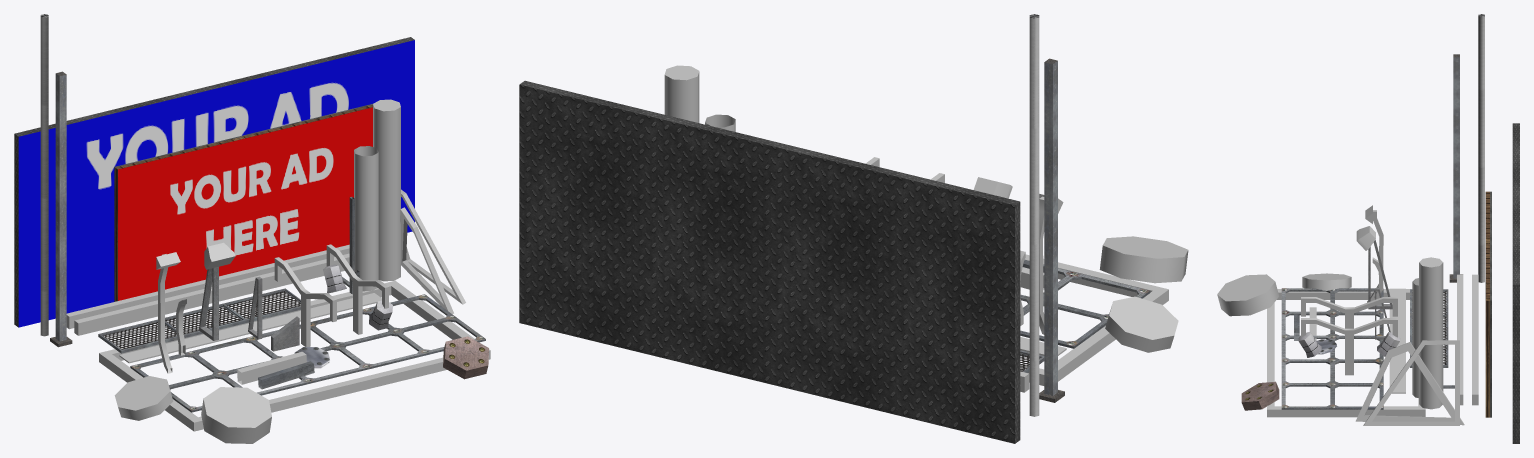
Rendered from platforms.fbx.
3 renders of one model, left to right at view 1: azimuth 30°, elevation 25°; view 2: azimuth 150°, elevation 25°; view 3: azimuth 270°, elevation 25°, orthographic. The views are drawn at different scales.
Parts seen in each view (by area): view 1: polySurface111, pCube526, pCube508, polySurface35, pCylinder36, group1_pCube33, polySurface33, pCylinder97, pCube341, pCylinder35, pCylinder118, polySurface34 (+17 smaller); view 2: polySurface111, pCube341, pCylinder118, pCylinder97, pCylinder137, pCube508, pCylinder36, polySurface35, pCube251; view 3: polySurface35, pCylinder36, pCube508, polySurface111, pCylinder97, pCylinder118, pCube385, pCube341, pCube526, pCube389, pCube250, pCube401 (+12 smaller).
Boxes of the visible parts, x1,y1,x2,y2 form: polySurface111: [14, 37, 414, 327]; pCube526: [114, 104, 372, 301]; pCube508: [99, 280, 490, 431]; polySurface35: [130, 294, 485, 412]; pCylinder36: [373, 99, 400, 281]; group1_pCube33: [98, 288, 300, 353]; polySurface33: [74, 253, 349, 335]; pCylinder97: [201, 387, 271, 443]; pCube341: [50, 71, 72, 347]; pCylinder35: [354, 146, 378, 291]; pCylinder118: [40, 14, 48, 336]; polySurface34: [66, 244, 349, 329]; polySurface111: [519, 80, 1020, 443]; pCube341: [1039, 58, 1064, 402]; pCylinder118: [1029, 14, 1039, 416]; pCylinder97: [1099, 236, 1188, 283]; pCylinder137: [1105, 296, 1178, 352]; pCube508: [1020, 254, 1168, 385]; pCylinder36: [664, 65, 699, 122]; polySurface35: [1020, 264, 1150, 348]; pCube251: [1039, 196, 1044, 334]; polySurface35: [1281, 288, 1383, 409]; pCylinder36: [1419, 257, 1443, 409]; pCube508: [1267, 289, 1425, 417]; polySurface111: [1512, 123, 1519, 443]; pCylinder97: [1217, 274, 1279, 316]; pCylinder118: [1478, 14, 1484, 282]; pCube385: [1355, 342, 1464, 425]; pCube341: [1449, 54, 1462, 282]; pCube526: [1485, 191, 1491, 417]; pCube389: [1363, 340, 1459, 425]; pCube250: [1389, 288, 1405, 393]; pCube401: [1301, 318, 1397, 375].
Size of the model in its own units: 73.62 by 56.75 by 56.63.
